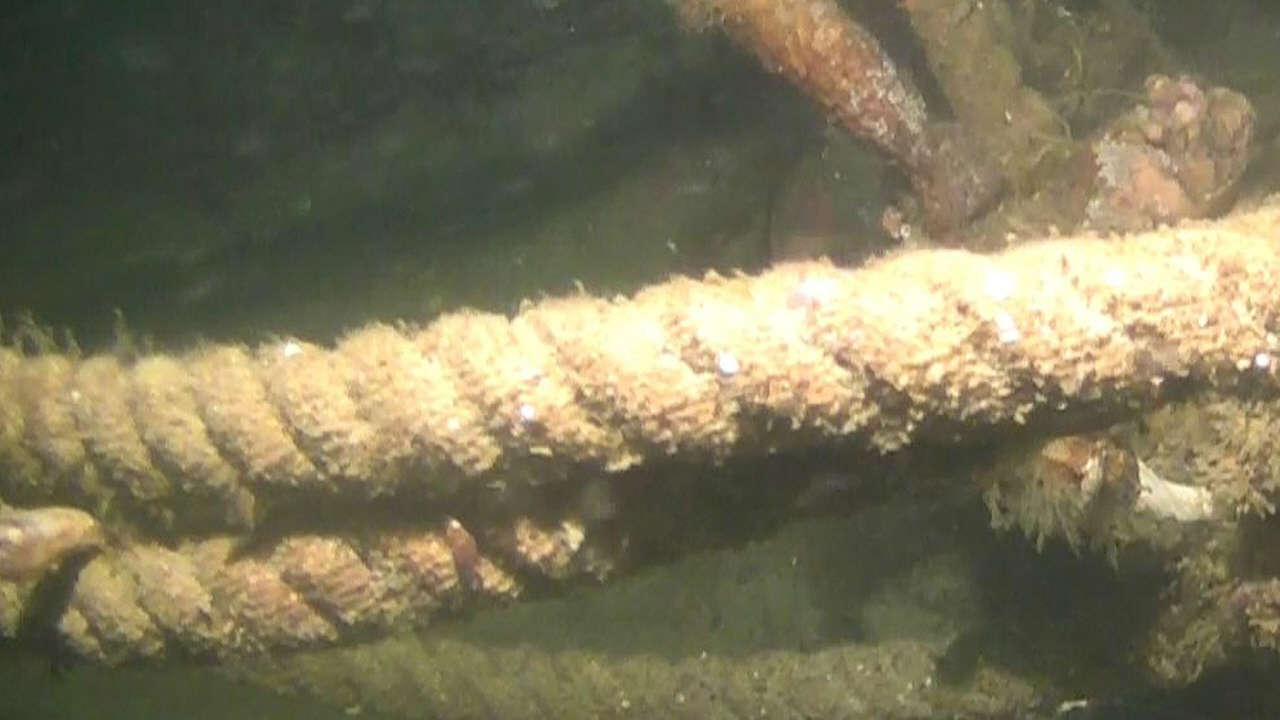bundle of ropes: (0, 201, 1280, 669)
